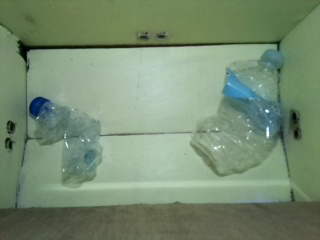damaged-bottle: (188, 47, 286, 177), (28, 95, 103, 190)
